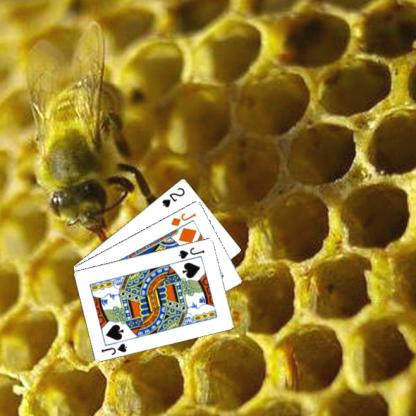2S: (160, 184, 186, 209)
JD: (168, 210, 197, 227)
JS: (176, 244, 206, 260), (99, 340, 128, 356)
